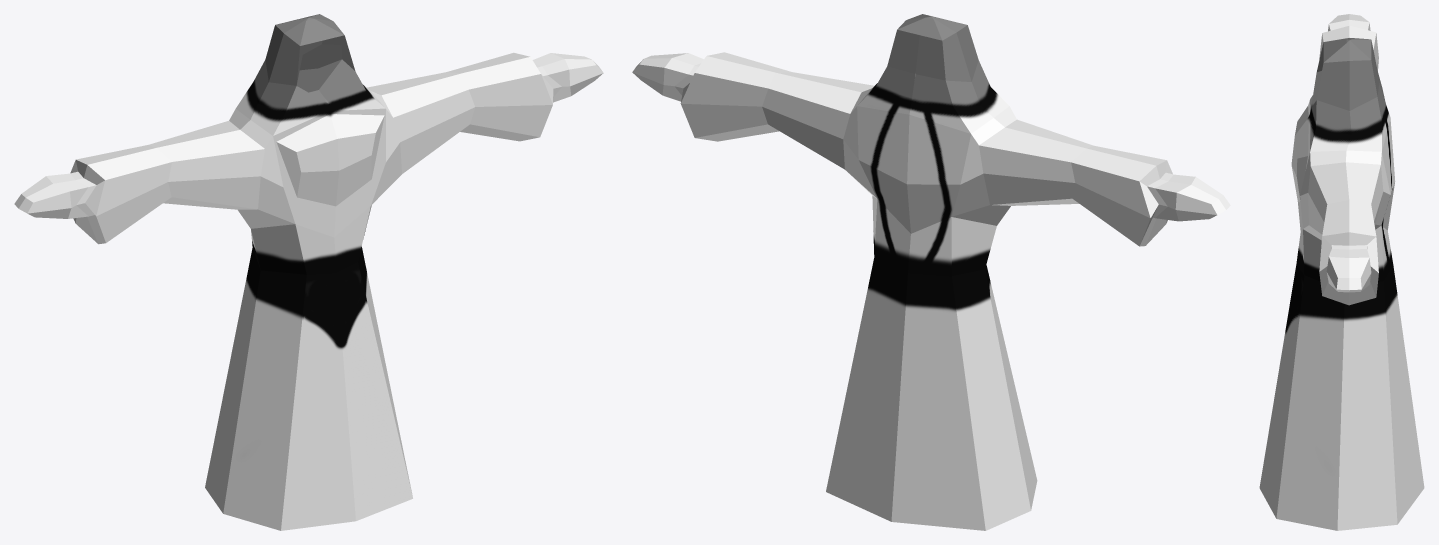
File: Priest.fbx
The picture shows the model from 3 angles, left to right: view 1: azimuth 30°, elevation 25°; view 2: azimuth 150°, elevation 25°; view 3: azimuth 270°, elevation 25°; orthographic projection. The views are drawn at different scales.
Visible parts, largest first — view 1: Priest; view 2: Priest; view 3: Priest.
Boxes of the visible parts, box(x1,y1,x2,y2) form: Priest: box(14, 14, 603, 530); Priest: box(632, 14, 1230, 530); Priest: box(1259, 14, 1424, 530).
Size of the model in its own units: 3831 by 14871 by 11472.
Materials: 1 (1 with a texture image).
